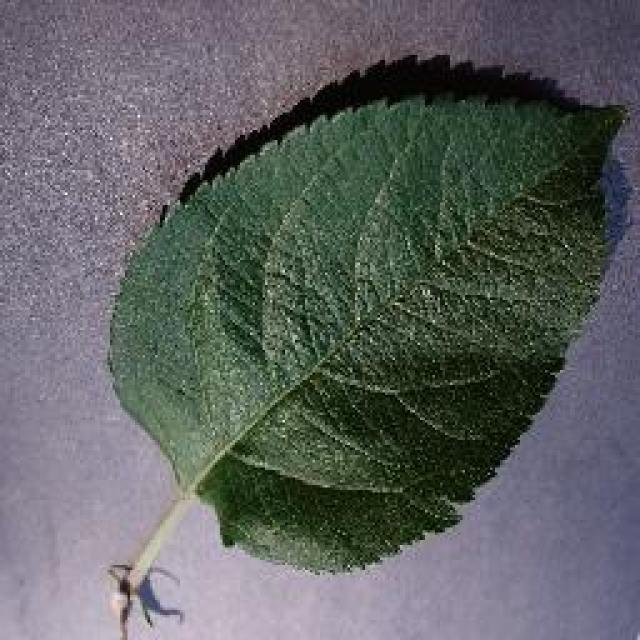apple healthy: (102, 48, 630, 578)
